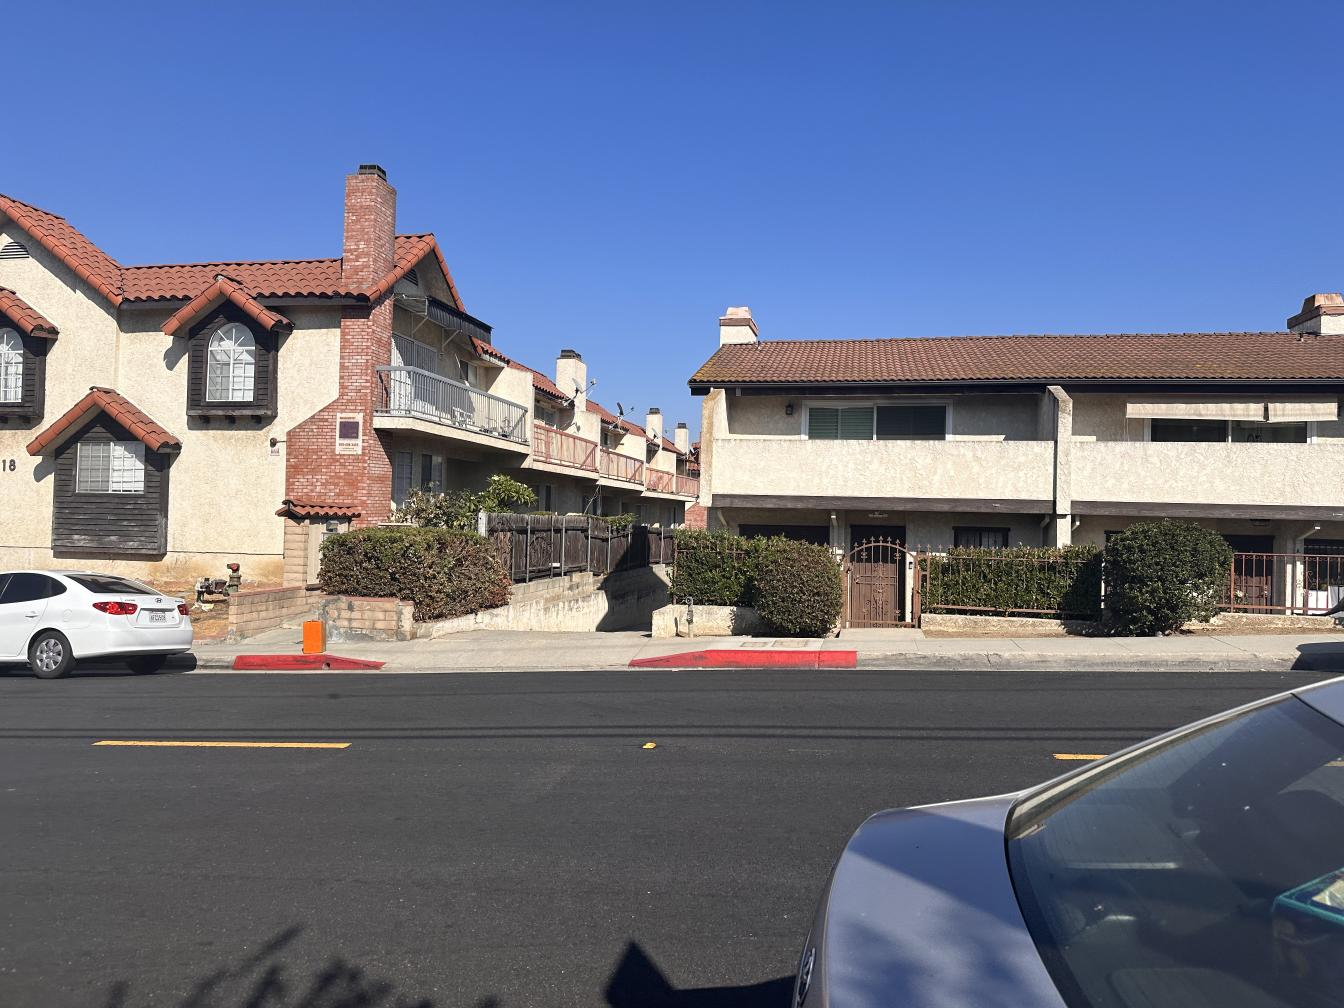curbs-laRr: (859, 649, 1341, 670)
orange box: (303, 619, 326, 653)
